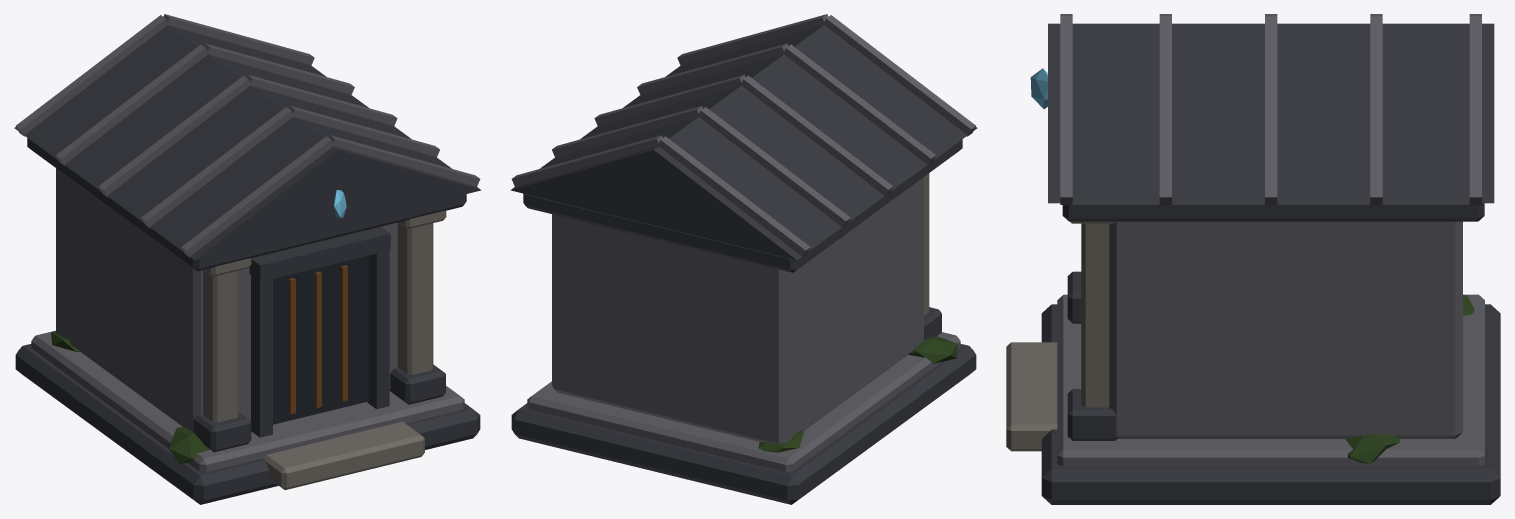
File: Graveyard_Mausoleum.glb
3 views of the same model, side by side, from view 1: azimuth 30°, elevation 25°; view 2: azimuth 150°, elevation 25°; view 3: azimuth 270°, elevation 25° (orthographic). The views are drawn at different scales.
Parts seen in each view (by area): view 1: Graveyard_Mausoleum; view 2: Graveyard_Mausoleum; view 3: Graveyard_Mausoleum.
Part boxes in pixels (box(x1,y1,x2,y2)): Graveyard_Mausoleum: box(14, 14, 481, 504); Graveyard_Mausoleum: box(510, 14, 977, 504); Graveyard_Mausoleum: box(1006, 14, 1500, 504).
Size of the model in its own units: 3.38 by 3.62 by 3.99.
